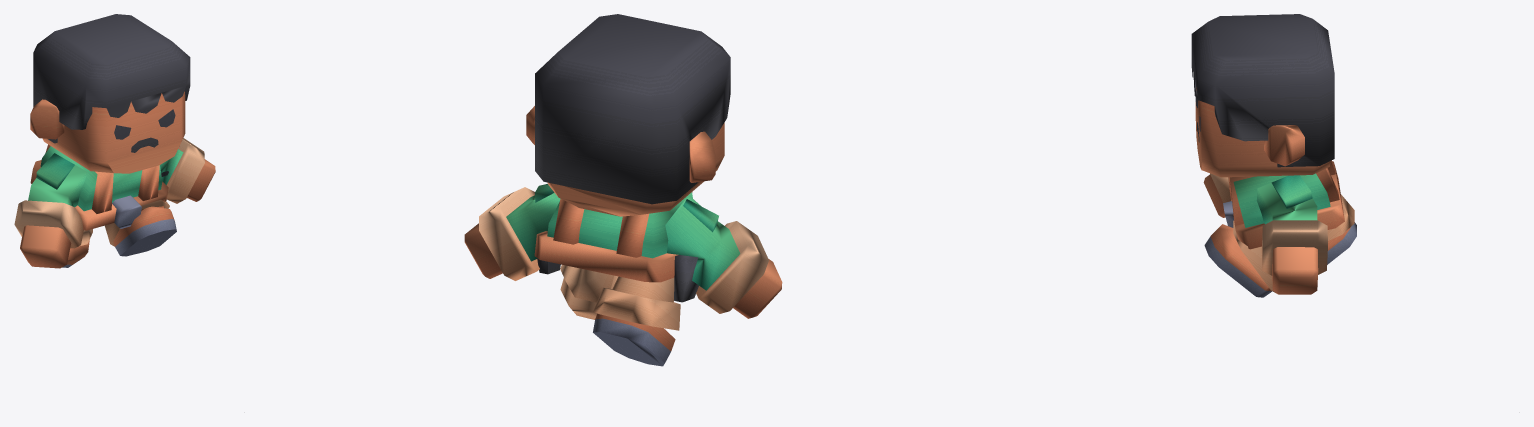
Rendered from crowdA_sprint_1.glb.
The picture shows the model from 3 angles, left to right: view 1: azimuth 30°, elevation 25°; view 2: azimuth 150°, elevation 25°; view 3: azimuth 270°, elevation 25°; orthographic projection. The views are drawn at different scales.
Visible parts, largest first — view 1: crowdA-sprint-1; view 2: crowdA-sprint-1; view 3: crowdA-sprint-1.
Part boxes in pixels (bbox=[...]): crowdA-sprint-1: bbox=[14, 14, 215, 268]; crowdA-sprint-1: bbox=[464, 14, 782, 366]; crowdA-sprint-1: bbox=[1191, 14, 1356, 297].
Bounding box in the file's own units: 1.2 × 0.7518 × 1.2.
1 material, 1 textured.
